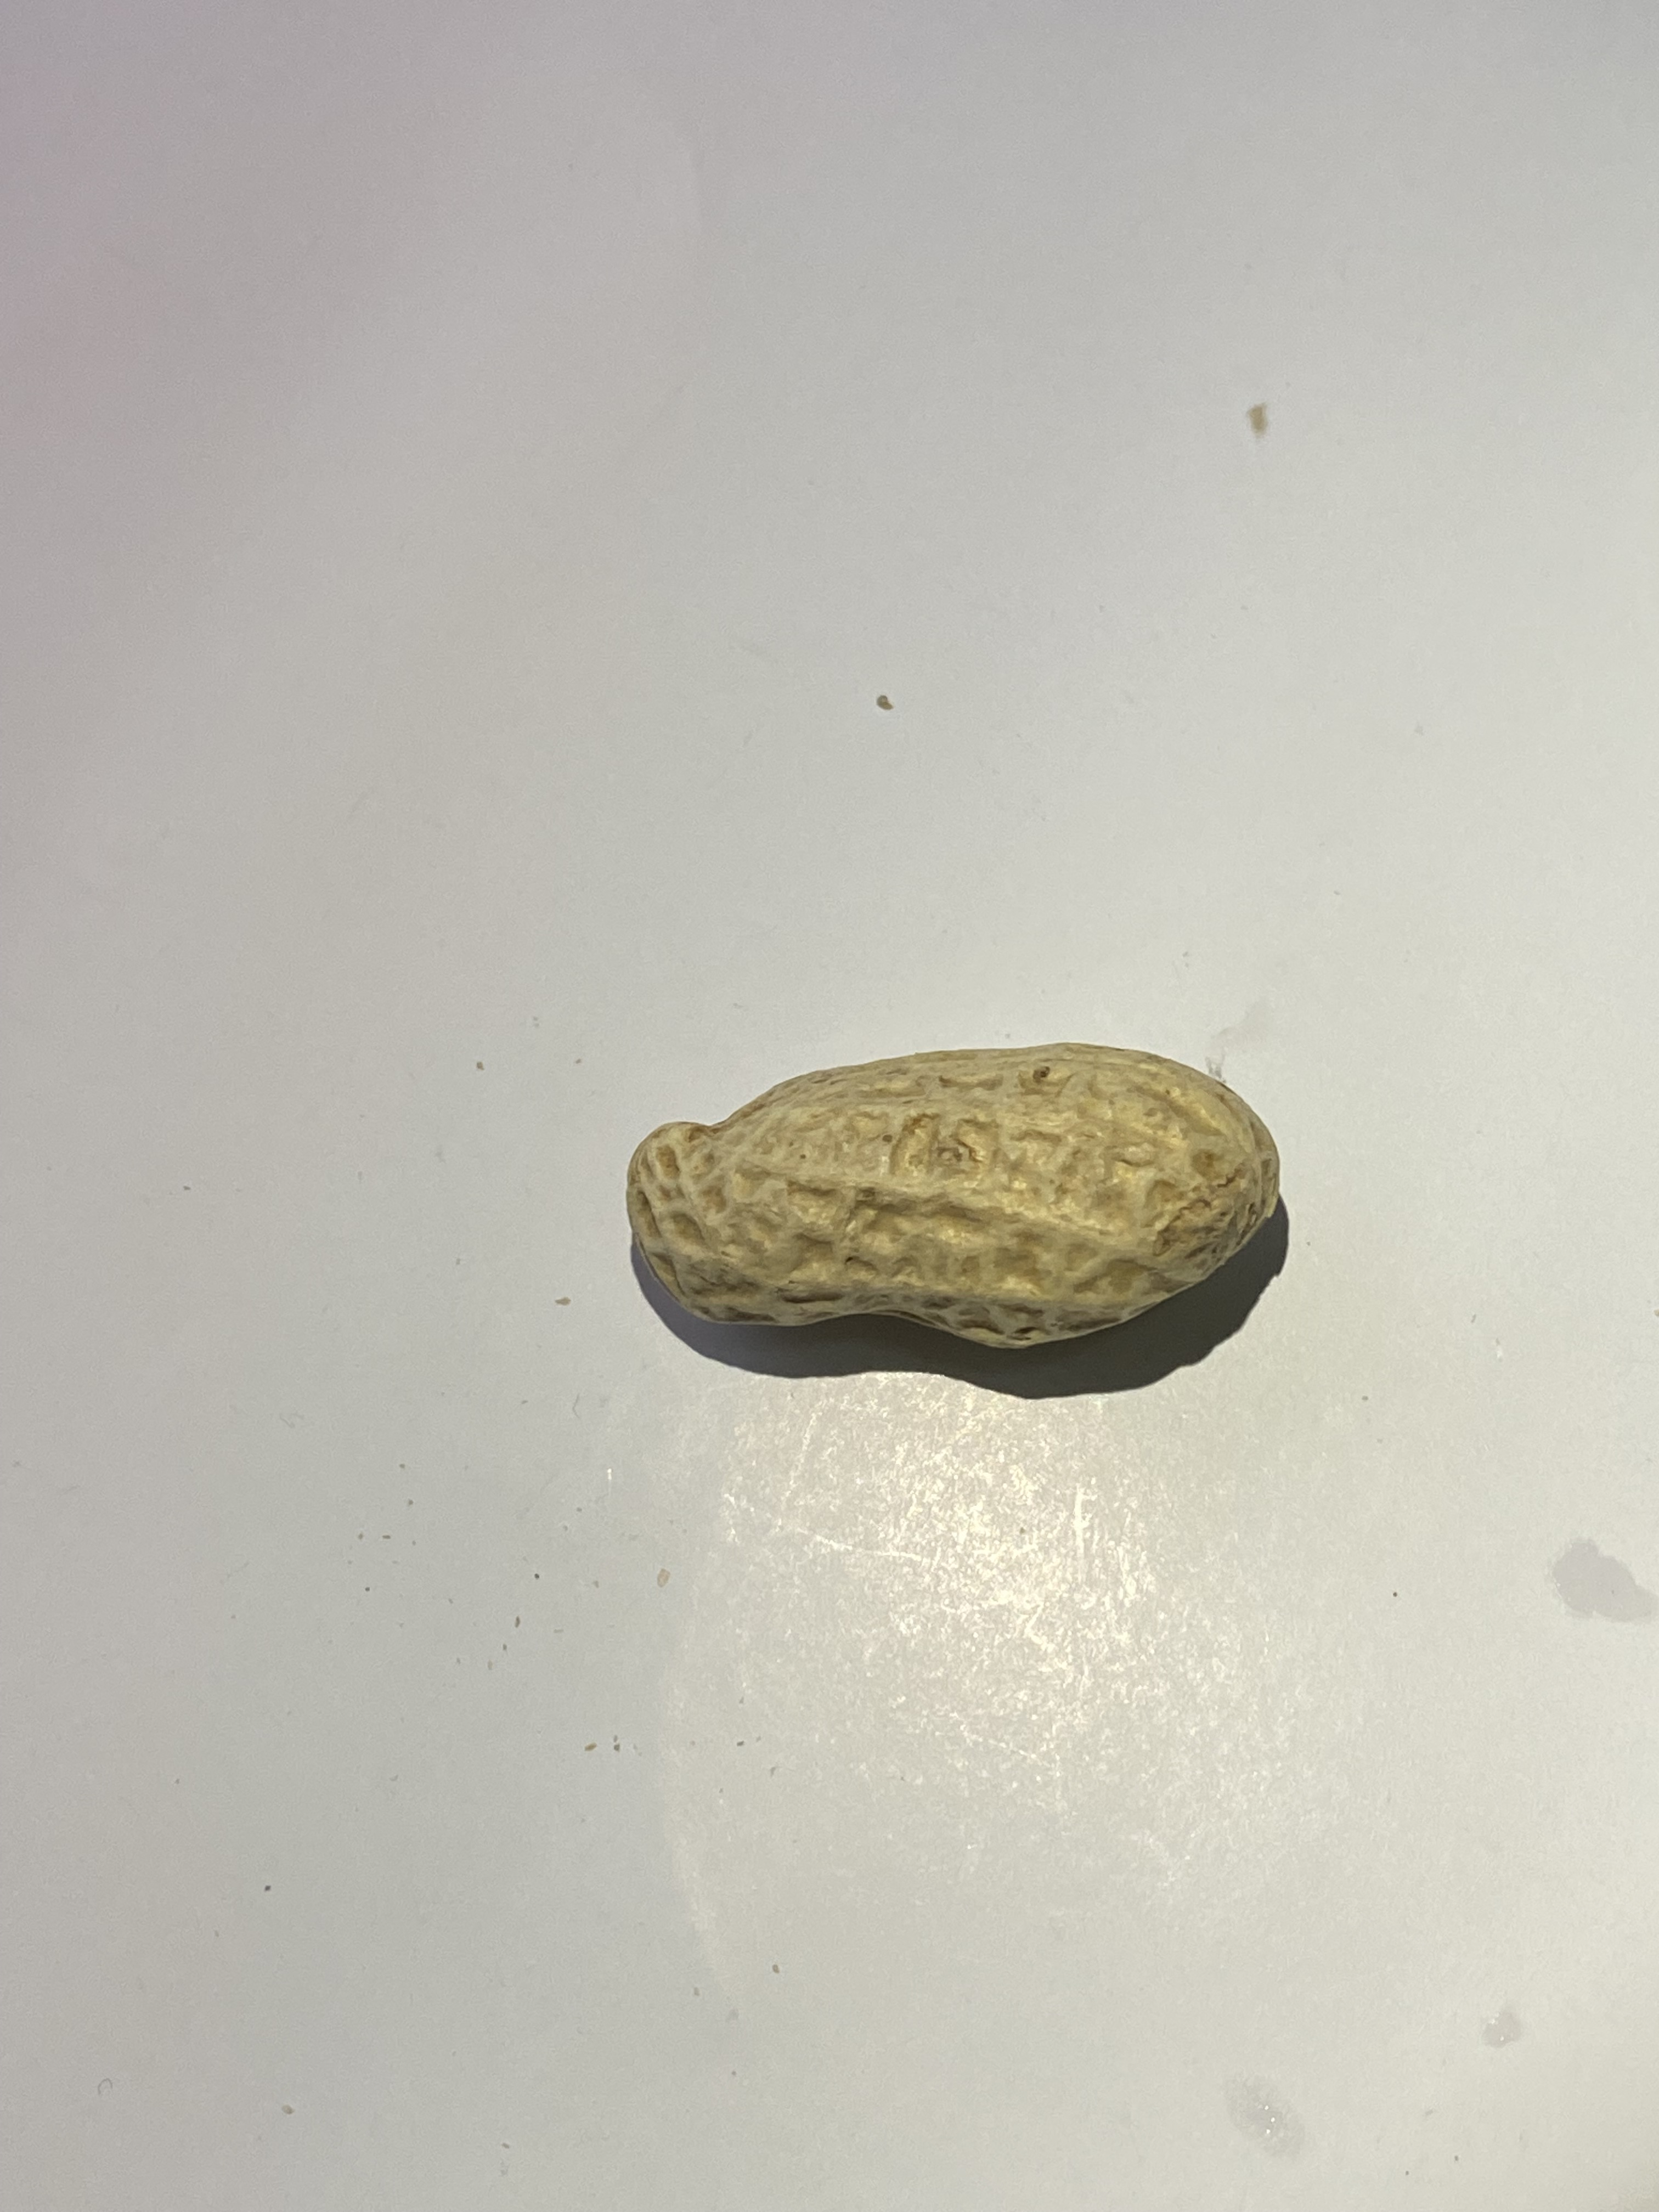kacang2: (612, 1029, 1288, 1352)
